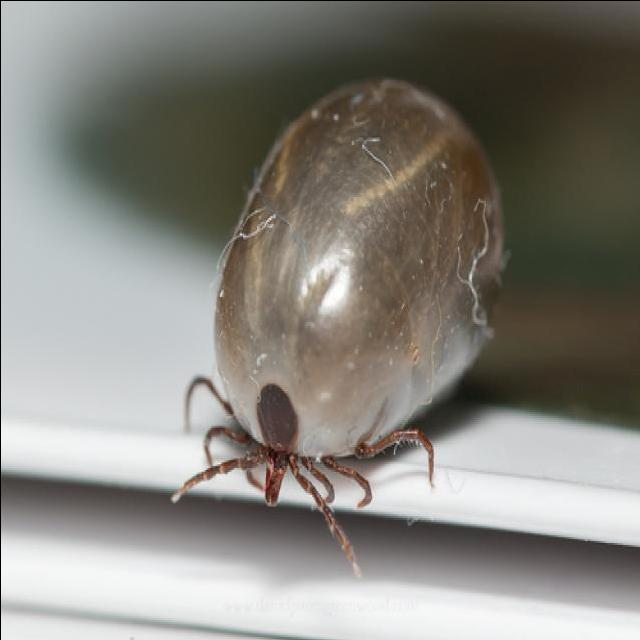Ixodes Ricinus-F-Fed: (170, 77, 509, 573)
